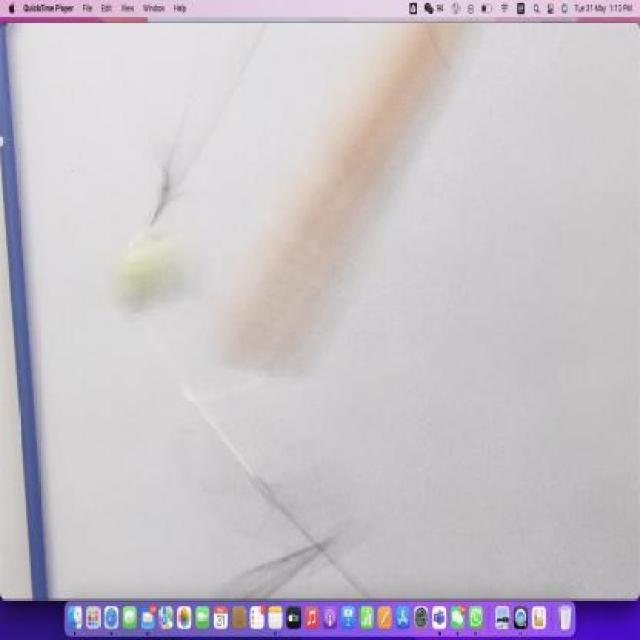baseball: (108, 229, 197, 314)
